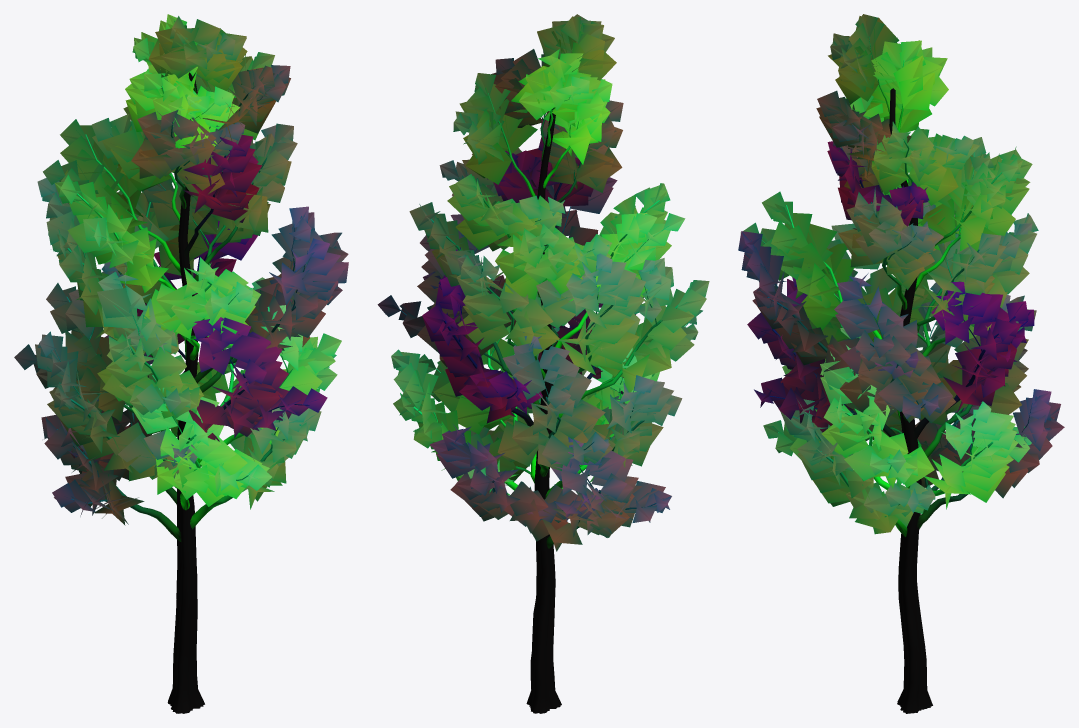
The model's file is SM_FLTree_04.FBX.
The picture shows the model from 3 angles, left to right: view 1: azimuth 30°, elevation 25°; view 2: azimuth 150°, elevation 25°; view 3: azimuth 270°, elevation 25°; orthographic projection. The views are drawn at different scales.
Parts seen in each view (by area): view 1: SM_FLTree_04_LOD0; view 2: SM_FLTree_04_LOD0; view 3: SM_FLTree_04_LOD0.
Part boxes in pixels (bbox=[...]): SM_FLTree_04_LOD0: bbox=[14, 14, 348, 713]; SM_FLTree_04_LOD0: bbox=[377, 14, 709, 713]; SM_FLTree_04_LOD0: bbox=[738, 14, 1064, 713].
Size of what is drawn, in the model's own units: 549 by 550 by 1258.
